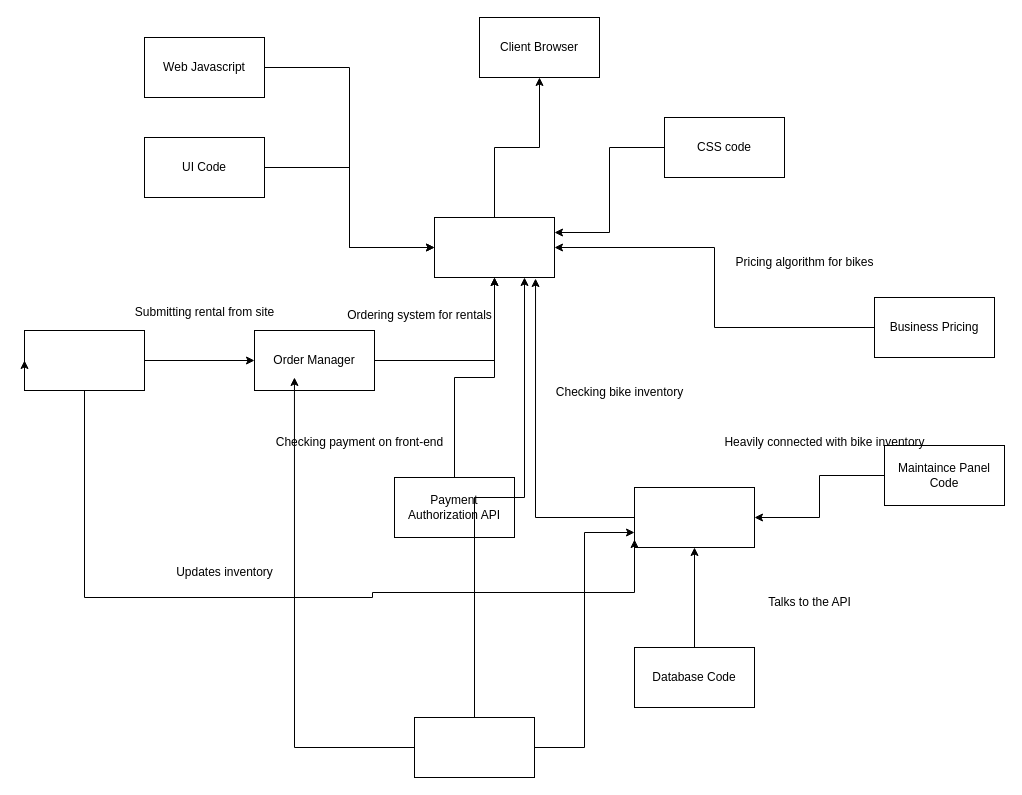
The diagram is 1022 pixels wide and 795 high, and some of its shapes have lost their labels. The centre of each missing label's shape, as x and y in pixels:
"Admin Panel" belongs at pixel 474 747.
"Frontend Code (React, next.js, etc)" belongs at pixel 494 247.
"Inventory API" belongs at pixel 694 517.
"Submitting rental code" belongs at pixel 84 360.
